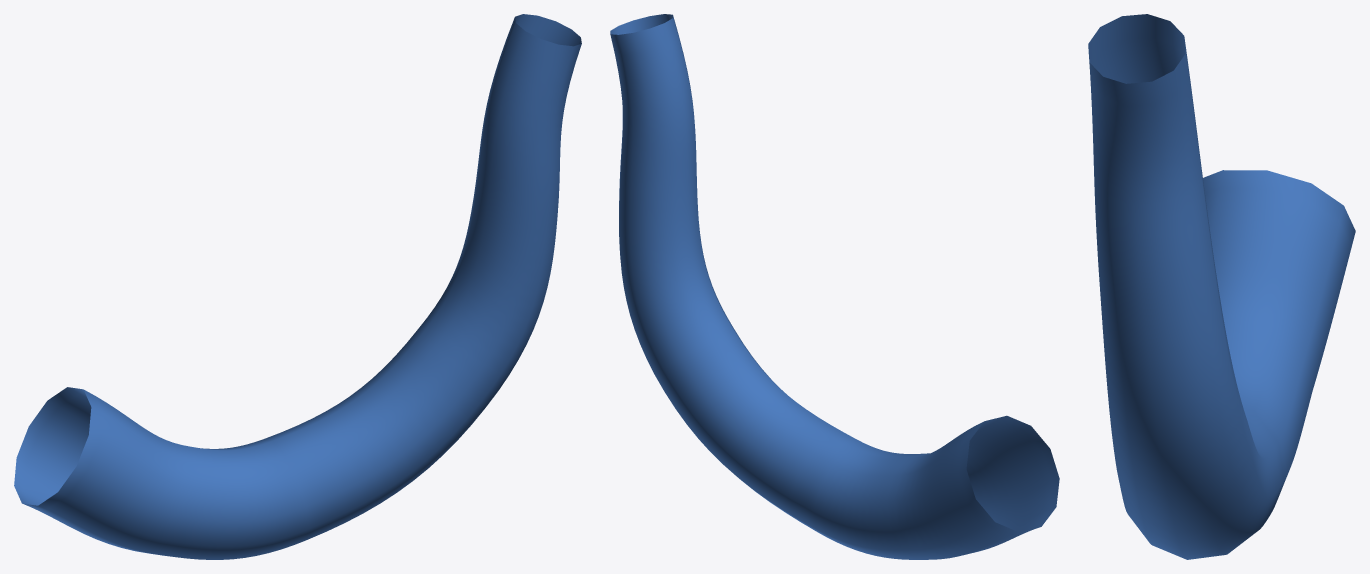
The picture shows the model from 3 angles, left to right: view 1: azimuth 30°, elevation 25°; view 2: azimuth 150°, elevation 25°; view 3: azimuth 270°, elevation 25°; orthographic projection. The views are drawn at different scales.
Parts seen in each view (by area): view 1: 左肾静脉; view 2: 左肾静脉; view 3: 左肾静脉.
Part boxes in pixels (box(x1,y1,x2,y2)): 左肾静脉: box(14, 14, 581, 559); 左肾静脉: box(610, 14, 1059, 559); 左肾静脉: box(1088, 14, 1355, 559).
Bounding box in the file's own units: 0.0596 × 0.0547 × 0.0197.
